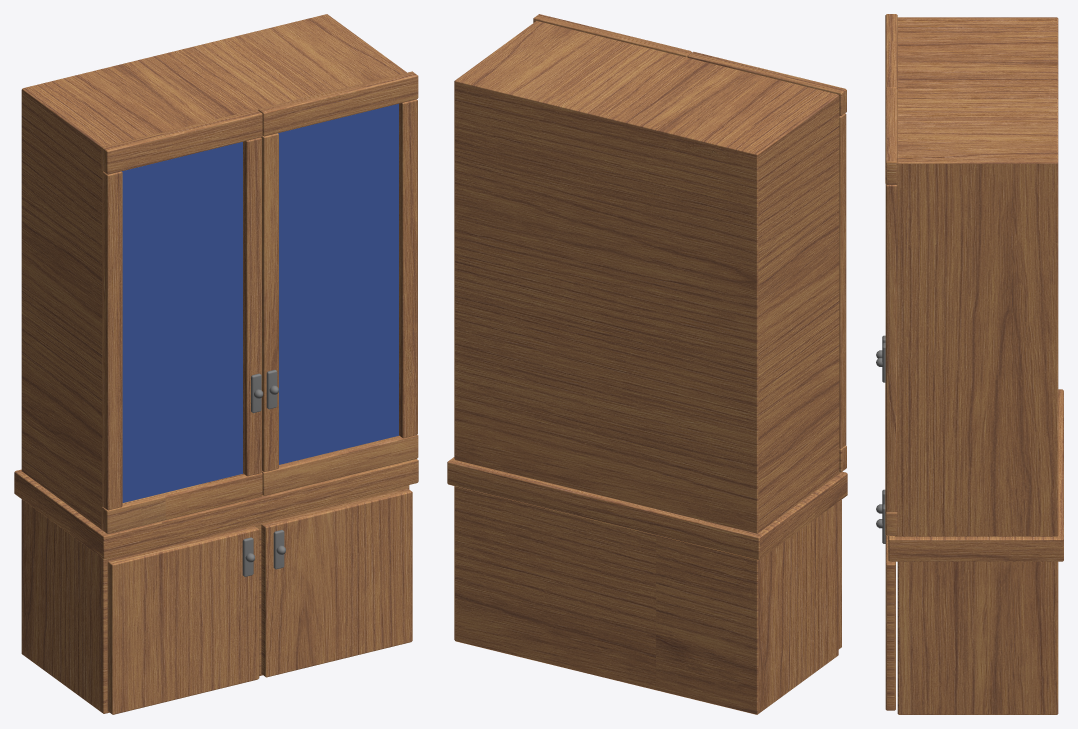
File: SM_shelf_01.fbx
The picture shows the model from 3 angles, left to right: view 1: azimuth 30°, elevation 25°; view 2: azimuth 150°, elevation 25°; view 3: azimuth 270°, elevation 25°; orthographic projection. The views are drawn at different scales.
Visible parts, largest first — view 1: shelf01; view 2: shelf01; view 3: shelf01.
Part boxes in pixels (bbox=[...]): shelf01: bbox=[14, 14, 418, 714]; shelf01: bbox=[447, 14, 847, 714]; shelf01: bbox=[876, 14, 1063, 714].
Size of the model in its own units: 49.72 by 85.57 by 26.27.
3 materials, 1 textured.
